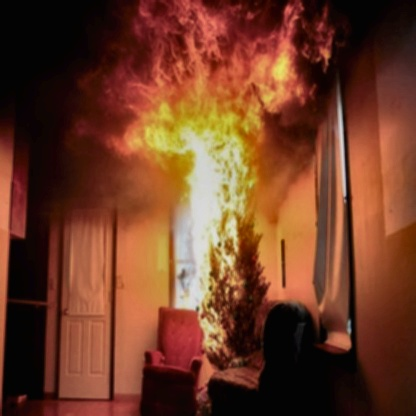fire: (57, 0, 340, 361)
